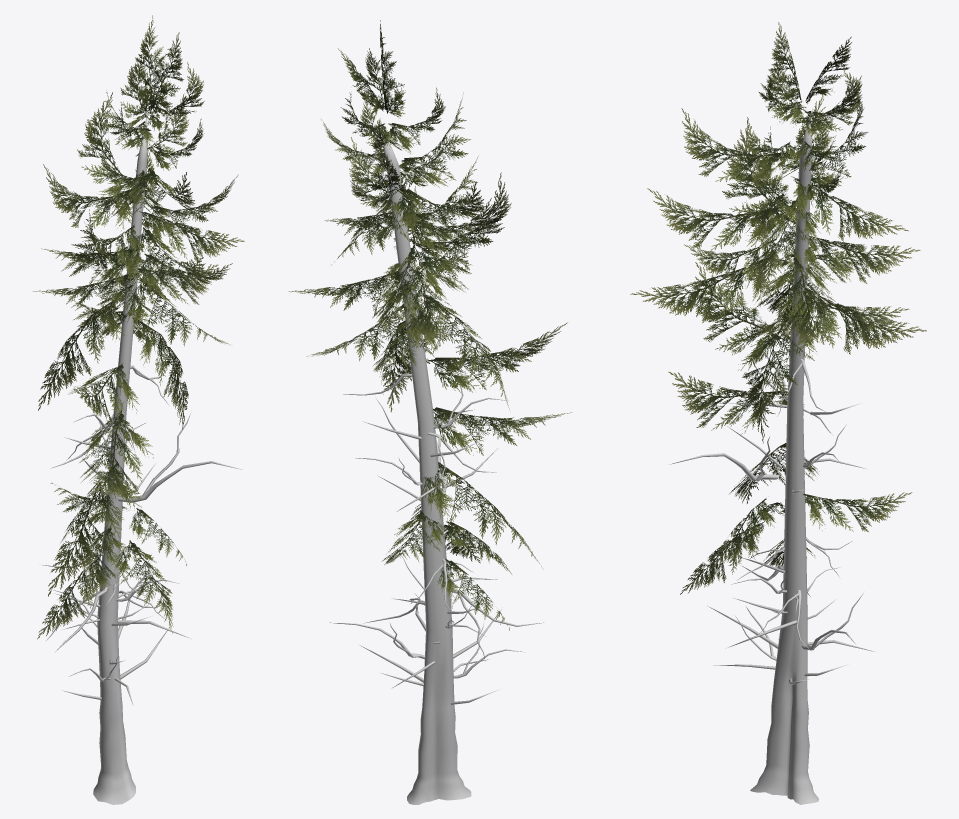
Rendered from SM_Veg_Tree_Fir_02.FBX.
The picture shows the model from 3 angles, left to right: view 1: azimuth 30°, elevation 25°; view 2: azimuth 150°, elevation 25°; view 3: azimuth 270°, elevation 25°; orthographic projection. The views are drawn at different scales.
Parts seen in each view (by area): view 1: SM_Veg_Tree_Fir_02_LOD0; view 2: SM_Veg_Tree_Fir_02_LOD0; view 3: SM_Veg_Tree_Fir_02_LOD0.
Part boxes in pixels (<box>): SM_Veg_Tree_Fir_02_LOD0: <box>33,15,244,804</box>; SM_Veg_Tree_Fir_02_LOD0: <box>288,20,572,804</box>; SM_Veg_Tree_Fir_02_LOD0: <box>630,22,926,804</box>.
Size of what is drawn, in the model's own units: 5.81 by 16.78 by 6.13.
